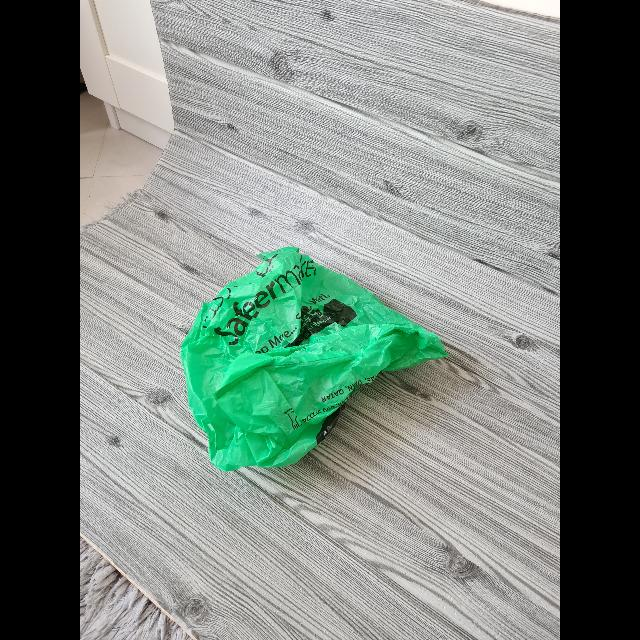plastic_bag: (163, 227, 467, 497)
